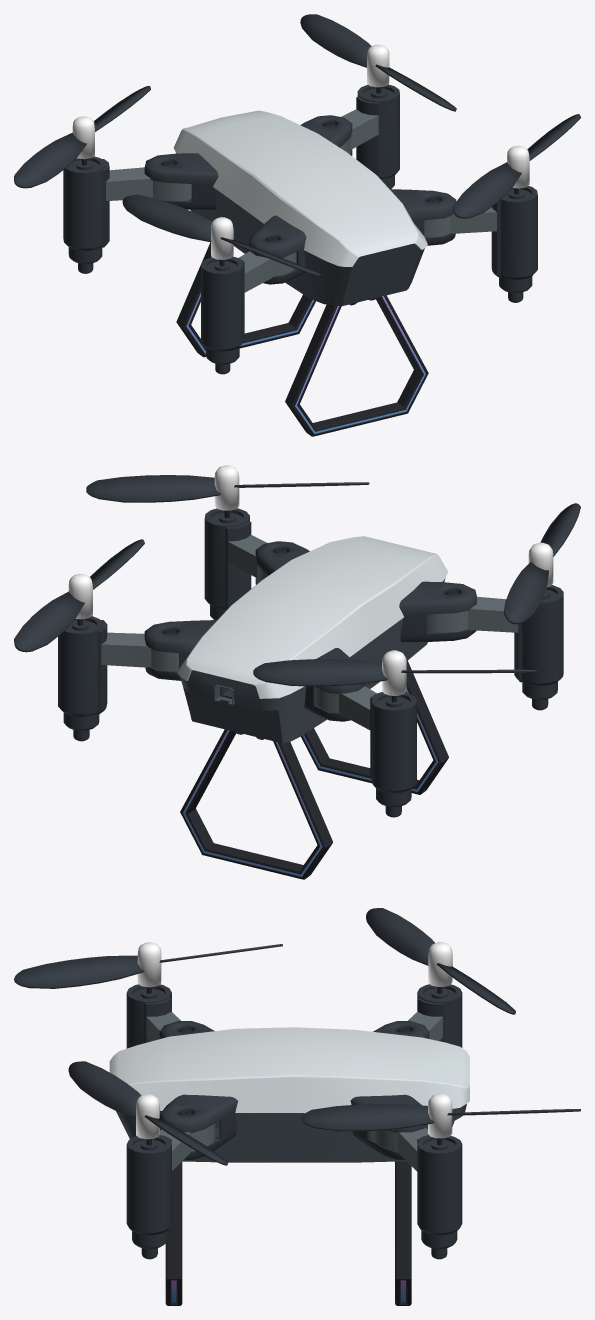
File: Drone.fbx
The picture shows the model from 3 angles, top to bottom: view 1: azimuth 30°, elevation 25°; view 2: azimuth 150°, elevation 25°; view 3: azimuth 270°, elevation 25°; orthographic projection. The views are drawn at different scales.
Parts seen in each view (by area): view 1: Base, HolderBig, HolderSmall, Tutacak, Pervane002, Pervane004, Pervane003, Pervane001, Tutacak1; view 2: Base, HolderBig, HolderSmall, Tutacak1, Pervane001, Pervane003, Pervane004, Pervane002, Tutacak; view 3: Base, HolderBig, HolderSmall, Pervane004, Pervane002, Pervane001, Pervane003, Tutacak1, Tutacak.
Part boxes in pixels (<box>): Base: <box>173,110,427,306</box>; HolderBig: <box>63,84,537,374</box>; HolderSmall: <box>144,115,456,284</box>; Tutacak: <box>285,295,428,436</box>; Pervane002: <box>122,194,321,276</box>; Pervane004: <box>300,14,456,111</box>; Pervane003: <box>14,86,150,188</box>; Pervane001: <box>453,114,580,218</box>; Tutacak1: <box>176,242,315,357</box>; Base: <box>177,536,447,743</box>; HolderBig: <box>58,508,563,817</box>; HolderSmall: <box>144,541,476,721</box>; Tutacak1: <box>180,729,332,879</box>; Pervane001: <box>86,465,369,510</box>; Pervane003: <box>253,650,536,695</box>; Pervane004: <box>14,539,144,652</box>; Pervane002: <box>503,503,580,624</box>; Tutacak: <box>301,660,448,794</box>; Base: <box>109,1027,469,1162</box>; HolderBig: <box>126,984,462,1259</box>; HolderSmall: <box>159,1021,429,1159</box>; Pervane004: <box>301,1093,580,1138</box>; Pervane002: <box>14,942,282,988</box>; Pervane001: <box>68,1061,227,1165</box>; Pervane003: <box>366,908,515,1014</box>; Tutacak1: <box>395,1161,411,1305</box>; Tutacak: <box>165,1162,182,1305</box>.
Bounding box in the file's own units: 1014 × 487 × 957.
1 material, 1 textured.
